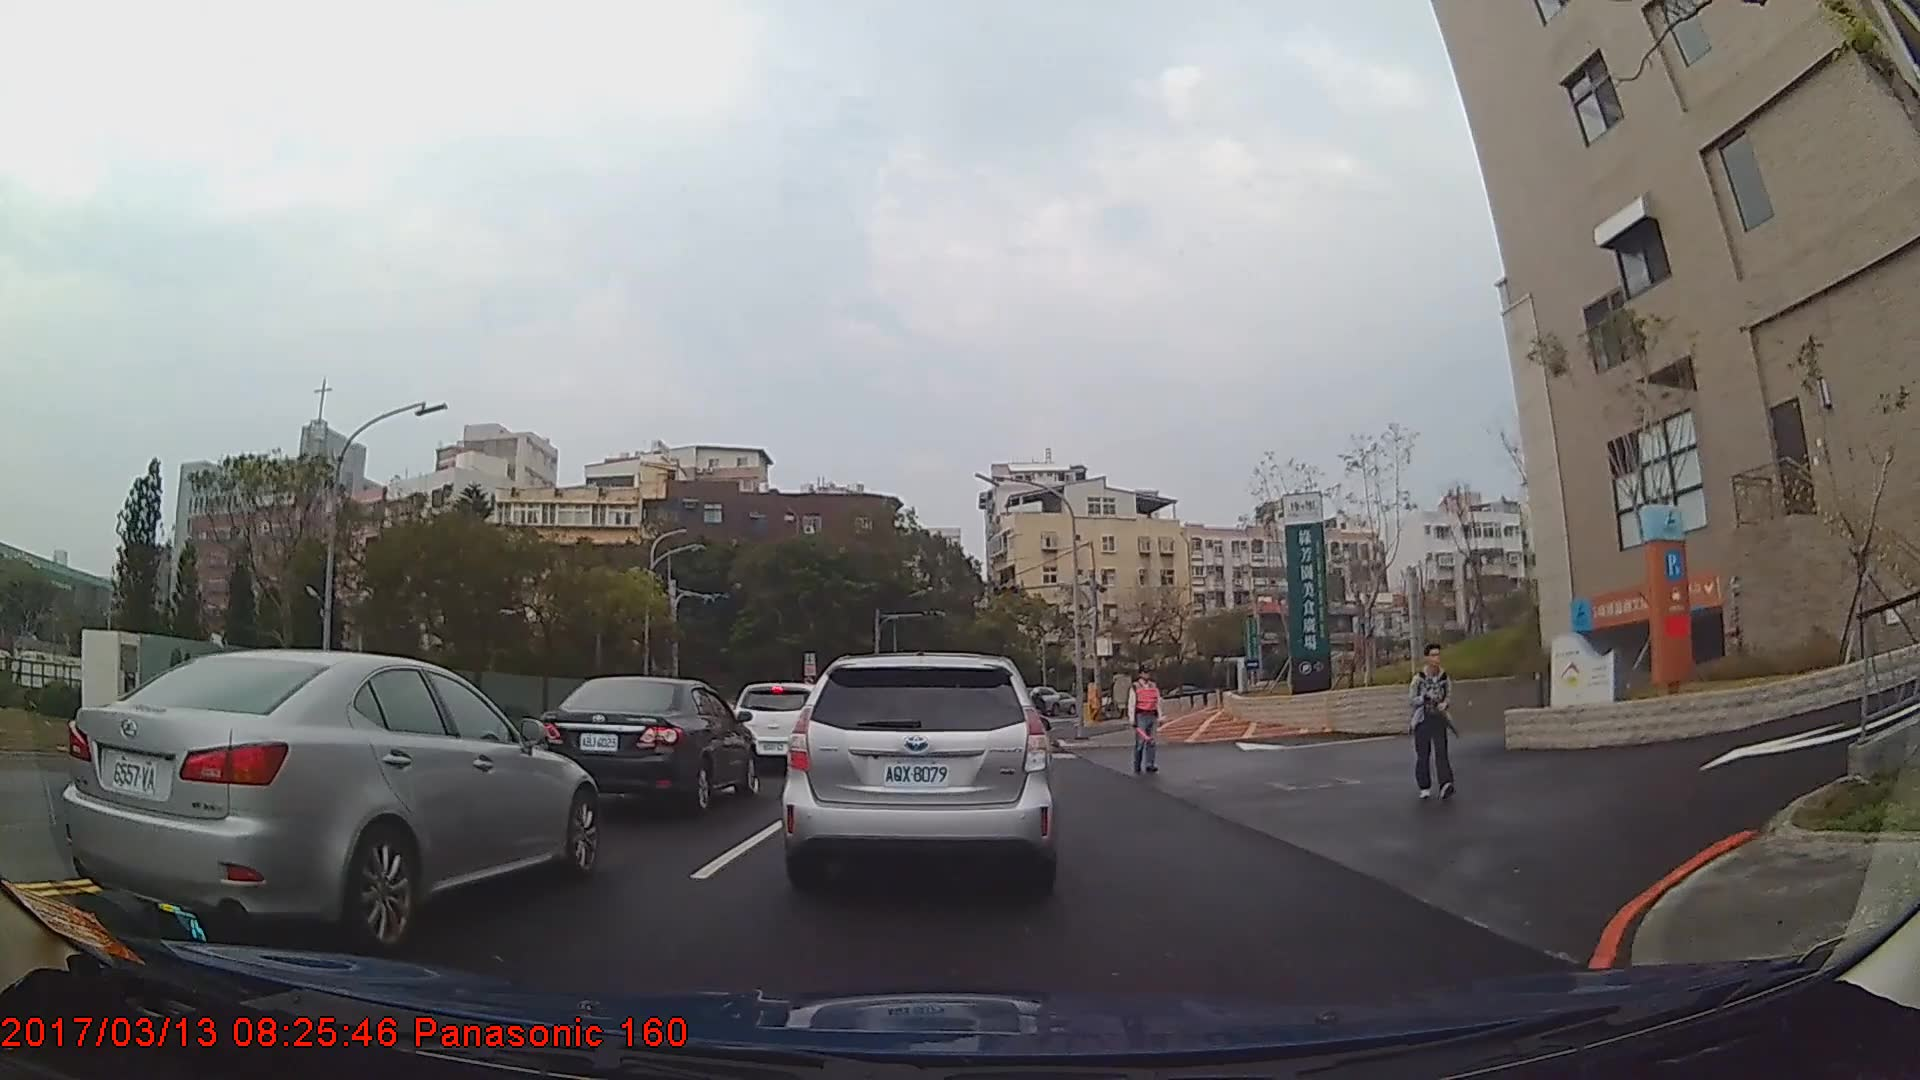pedestrian: (1406, 641, 1456, 802), (1130, 664, 1168, 774)
vehicle: (58, 645, 599, 950), (778, 651, 1058, 903), (539, 675, 756, 818), (729, 679, 829, 771)
